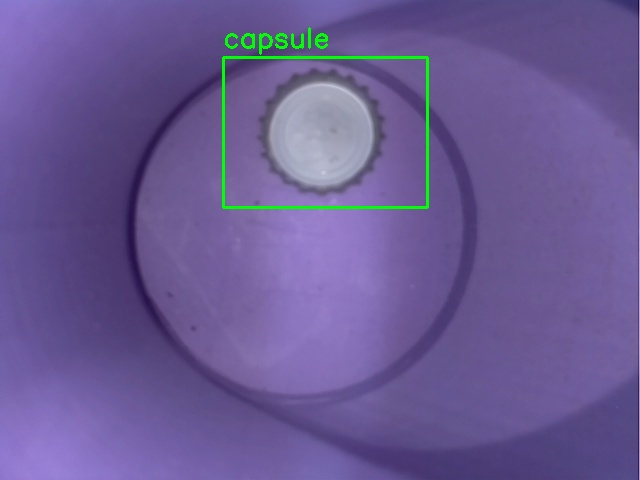capsule: (223, 57, 427, 207)
